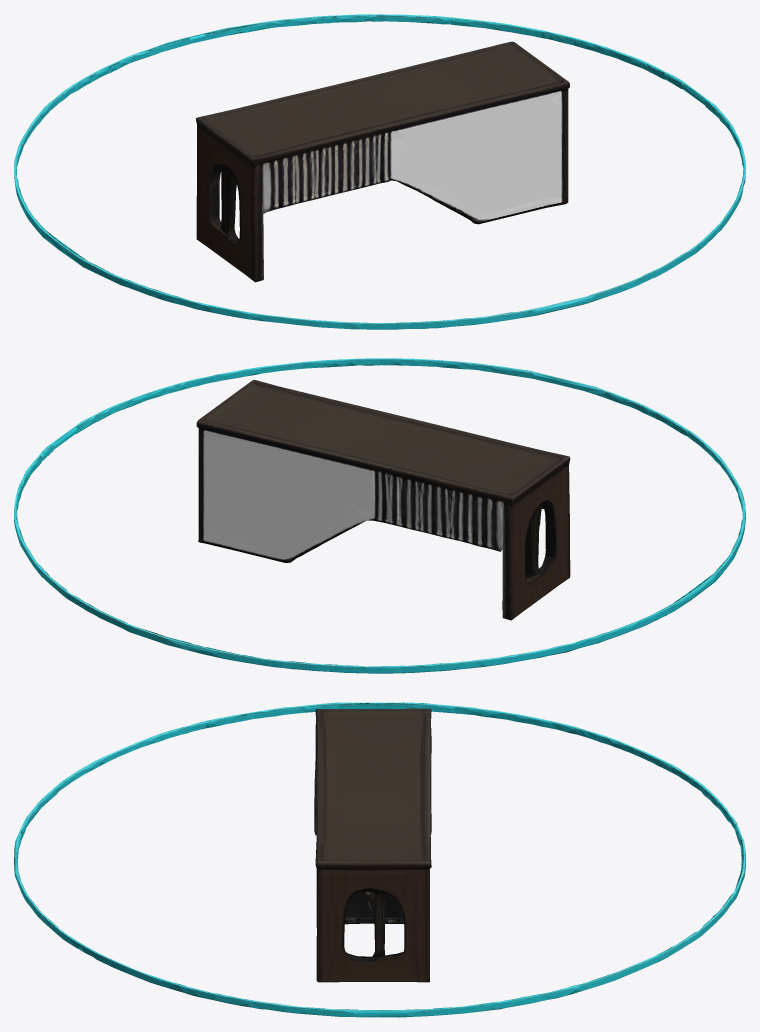
The picture shows the model from 3 angles, top to bottom: view 1: azimuth 30°, elevation 25°; view 2: azimuth 150°, elevation 25°; view 3: azimuth 270°, elevation 25°; orthographic projection.
Visible parts, largest first — view 1: world; view 2: world; view 3: world.
Part boxes in pixels (box(x1,y1,x2,y2)): world: box(14, 14, 745, 329); world: box(14, 358, 745, 673); world: box(14, 702, 745, 1017).
Size of the model in its own units: 1 by 0.1851 by 1.
Materials: 1 (1 with a texture image).
